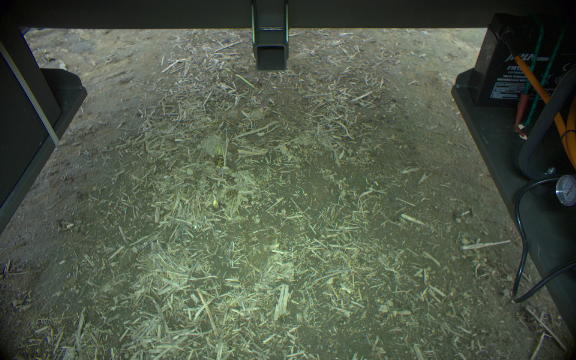aspa: (222, 65, 256, 90)
